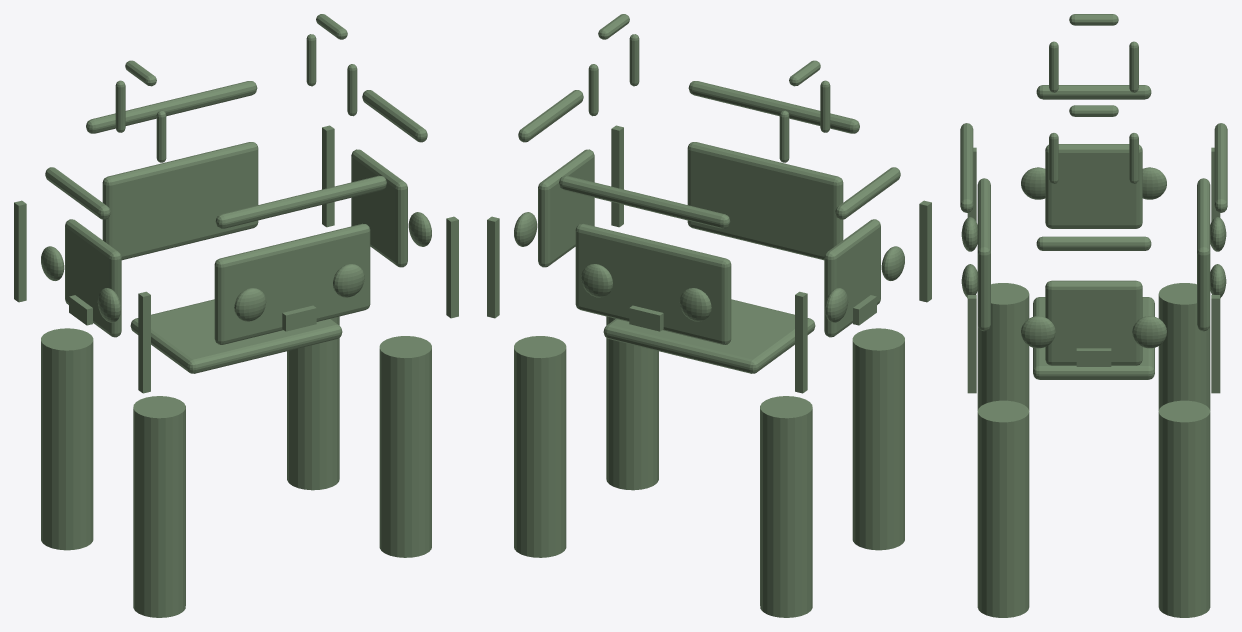
The model's file is bronze-fangding.glb.
The picture shows the model from 3 angles, left to right: view 1: azimuth 30°, elevation 25°; view 2: azimuth 150°, elevation 25°; view 3: azimuth 270°, elevation 25°; orthographic projection. The views are drawn at different scales.
Visible parts, largest first — view 1: Cube.002, Cube.001, Cylinder.001, Cylinder, Cylinder.002, Cylinder.003, Cube, Cube.004, Cube.003, Cube.005, Cube.006, Cube.015 (+11 smaller); view 2: Cube.001, Cube.002, Cylinder, Cylinder.001, Cylinder.003, Cylinder.002, Cube, Cube.004, Cube.003, Cube.006, Cube.005, Cube.016 (+11 smaller); view 3: Cylinder.002, Cylinder.003, Cube.003, Cube.004, Cylinder, Cylinder.001, Cube, Cube.001, Cube.002, Cube.008, Cube.007, Cube.005 (+18 smaller).
Part boxes in pixels (left/top/right/bottom): Cube.002: left=102, top=142, right=258, bottom=260; Cube.001: left=214, top=223, right=370, bottom=344; Cylinder.001: left=41, top=328, right=93, bottom=550; Cylinder: left=133, top=396, right=185, bottom=617; Cylinder.002: left=379, top=336, right=431, bottom=557; Cylinder.003: left=287, top=316, right=339, bottom=490; Cube: left=130, top=299, right=342, bottom=373; Cube.004: left=351, top=149, right=407, bottom=267; Cube.003: left=65, top=219, right=121, bottom=337; Cube.005: left=215, top=175, right=386, bottom=228; Cube.006: left=86, top=81, right=257, bottom=133; Cube.015: left=138, top=291, right=150, bottom=393; Cube.001: left=687, top=142, right=843, bottom=260; Cube.002: left=575, top=223, right=731, bottom=344; Cylinder: left=852, top=328, right=904, bottom=550; Cylinder.001: left=760, top=396, right=812, bottom=617; Cylinder.003: left=514, top=336, right=566, bottom=557; Cylinder.002: left=606, top=316, right=658, bottom=490; Cube: left=603, top=299, right=815, bottom=373; Cube.004: left=538, top=149, right=594, bottom=267; Cube.003: left=824, top=219, right=880, bottom=337; Cube.006: left=559, top=175, right=730, bottom=228; Cube.005: left=688, top=81, right=859, bottom=133; Cube.016: left=795, top=291, right=807, bottom=393; Cylinder.002: left=977, top=400, right=1029, bottom=617; Cylinder.003: left=1158, top=400, right=1210, bottom=617; Cube.003: left=1045, top=144, right=1142, bottom=228; Cube.004: left=1045, top=280, right=1142, bottom=365; Cylinder: left=977, top=283, right=1029, bottom=410; Cylinder.001: left=1158, top=283, right=1210, bottom=410; Cube: left=1033, top=297, right=1154, bottom=379; Cube.001: left=977, top=178, right=990, bottom=331; Cube.002: left=1197, top=178, right=1210, bottom=331; Cube.008: left=1036, top=236, right=1151, bottom=250; Cube.007: left=1036, top=85, right=1151, bottom=99; Cube.005: left=960, top=123, right=973, bottom=212.
Bounding box in the file's own units: 1.07 × 1.55 × 0.7675.
